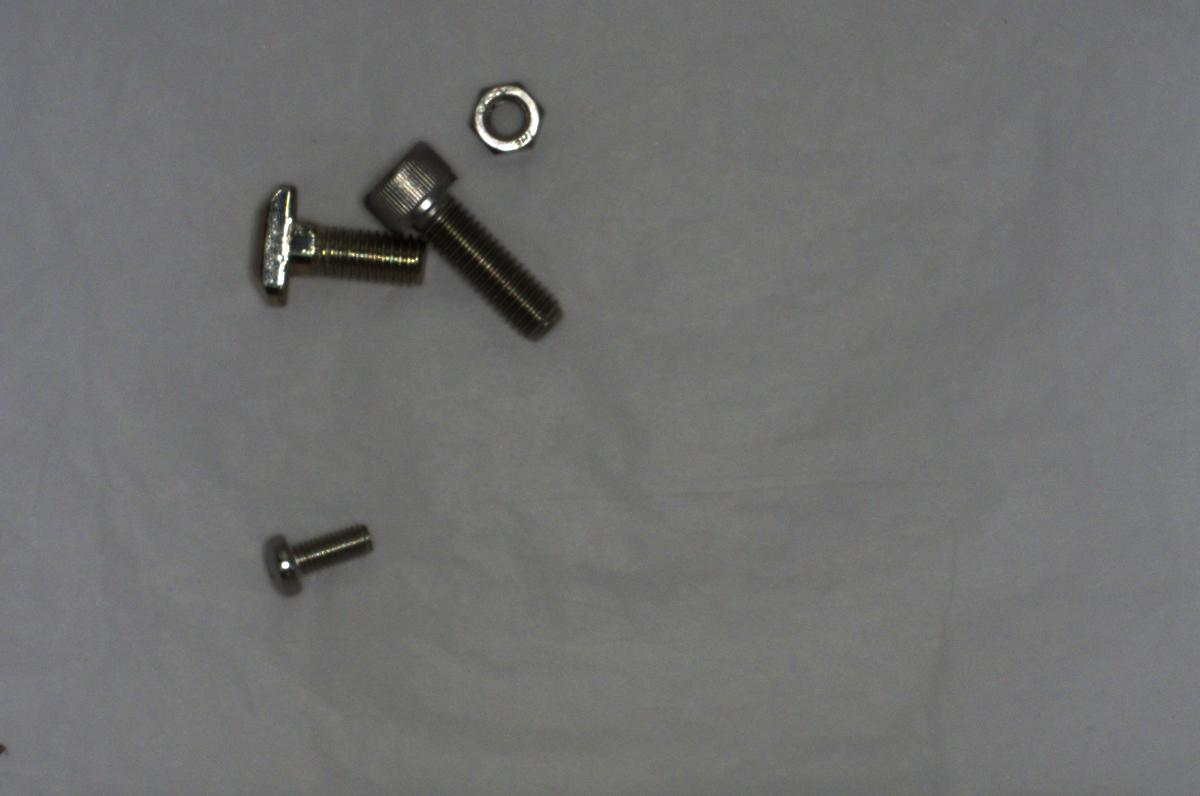Hexagon nut: (462, 72, 554, 160)
Hexagon screw: (362, 136, 567, 338)
Round head screw: (258, 516, 373, 601)
T-shaped screw: (253, 176, 428, 306)
